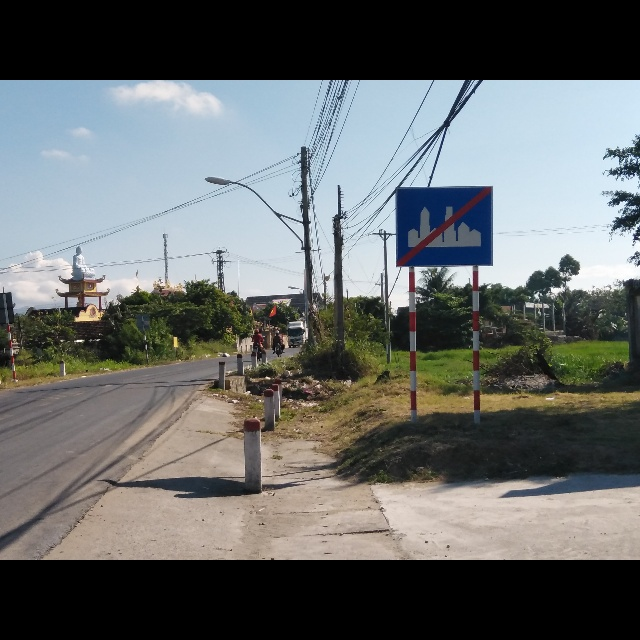Hết khu đông dân cư: (396, 184, 494, 265)
